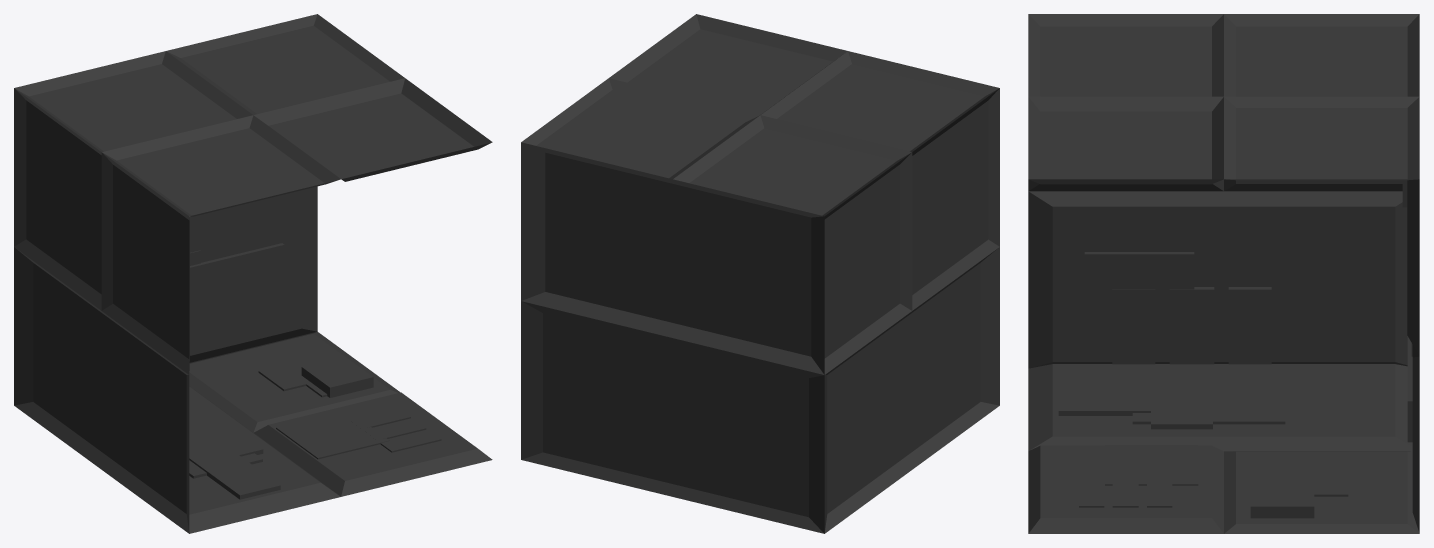
Rendered from tunnel_right_01.obj.
3 views of the same model, side by side, from view 1: azimuth 30°, elevation 25°; view 2: azimuth 150°, elevation 25°; view 3: azimuth 270°, elevation 25° (orthographic). The views are drawn at different scales.
Parts seen in each view (by area): view 1: tunnel; view 2: tunnel; view 3: tunnel.
Boxes of the visible parts, x1,y1,x2,y2 form: tunnel: (14, 14, 492, 533); tunnel: (521, 14, 999, 533); tunnel: (1028, 14, 1419, 533).
Bounding box in the file's own units: 15.56 × 15.56 × 15.56.
1 material, 1 textured.
